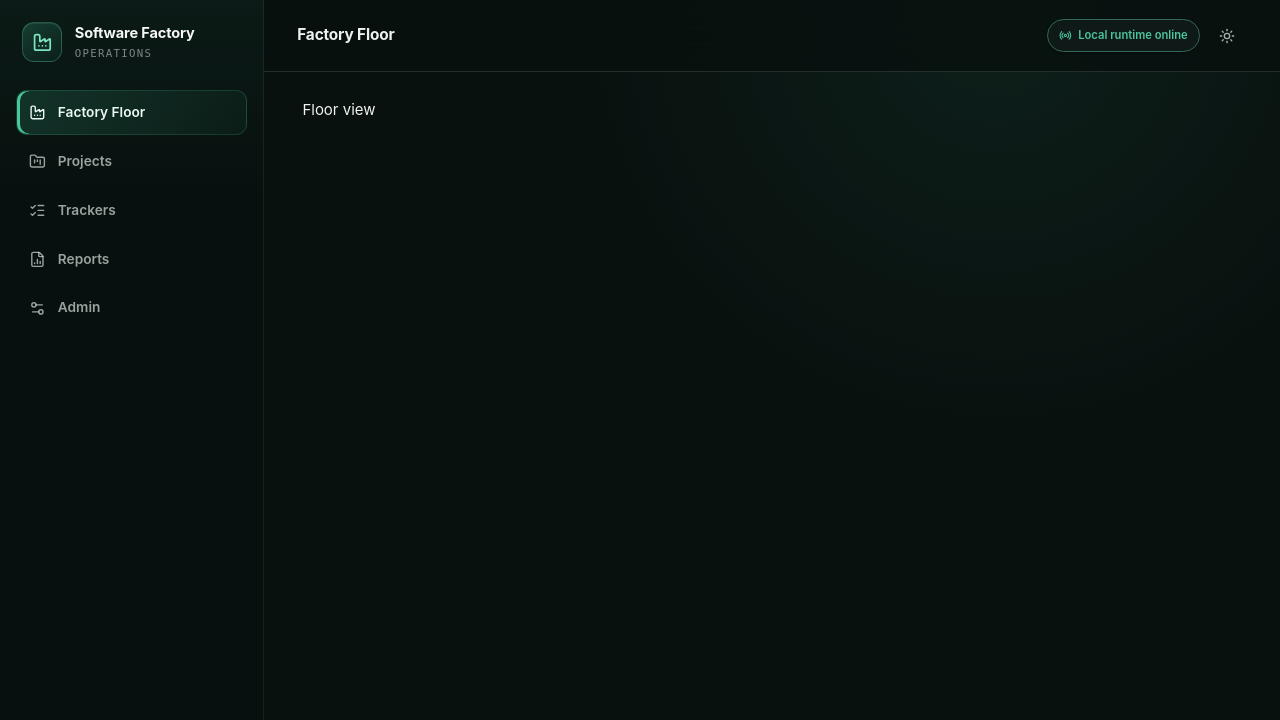
AppShell › toggles the document theme with a labelled control
The width and height of the screenshot is (1280, 720).
Click the button named "Switch to light mode": (1227,36) [1208,16,1247,55]
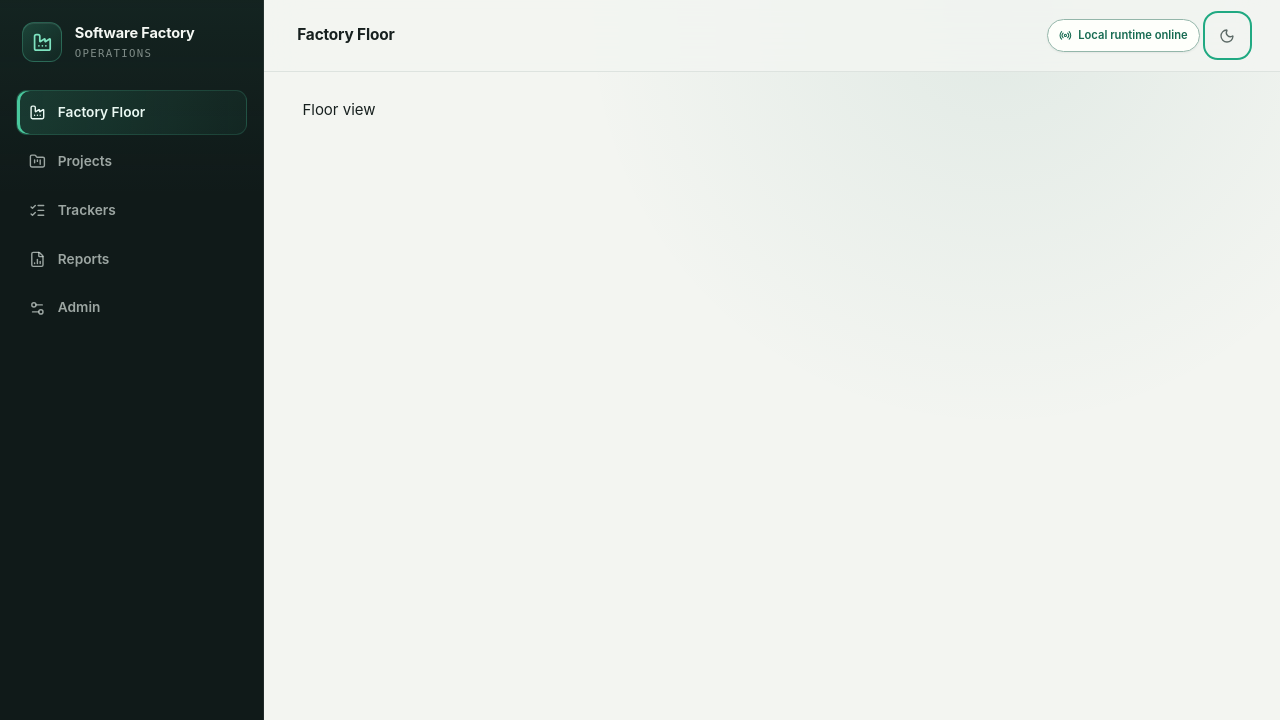
Check: the button named "Switch to dark mode" is shown, box [1208,16,1247,55]
